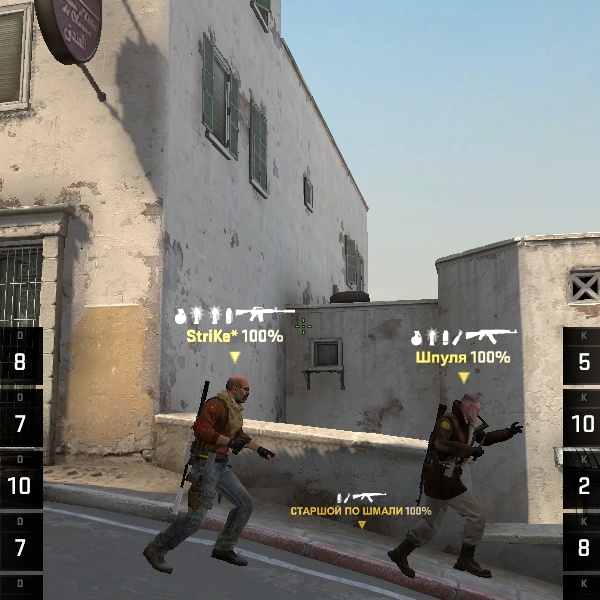t_body: (386, 387, 511, 577), (166, 372, 278, 570)
t_head: (453, 386, 495, 426), (216, 368, 256, 409)
